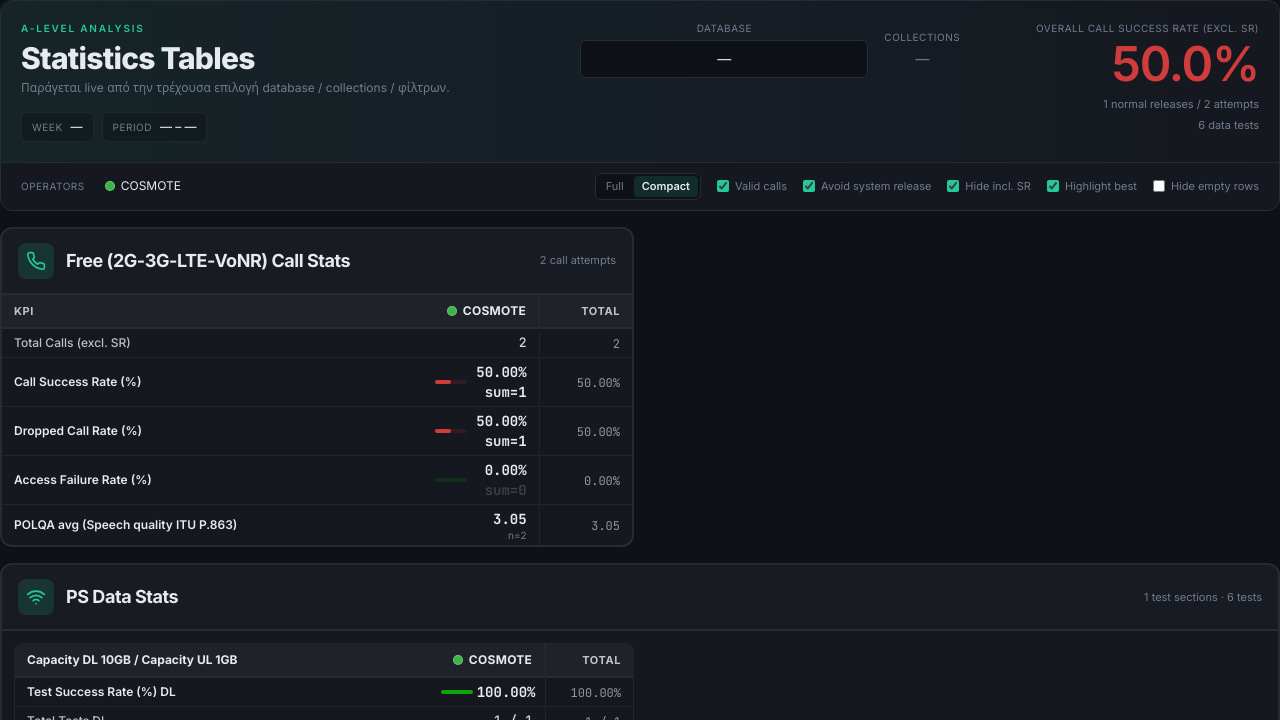
Test case: SummaryTab › compact mode › shows the Capacity (grx)/(akamai) link breakdown only in Full mode, next to the main Capacity DL/UL (2026-08-31: 'θέλω να μου το σπάσεις Link grx και akamai')
Expected: the text "Capacity DL 10GB / Capacity UL 1GB" is shown, [27,652,238,667]
Expected: the text "Capacity DL 10GB (grx)" is not shown
Click the button "Full": (615,186) [598,176,632,196]
(page scrolled)
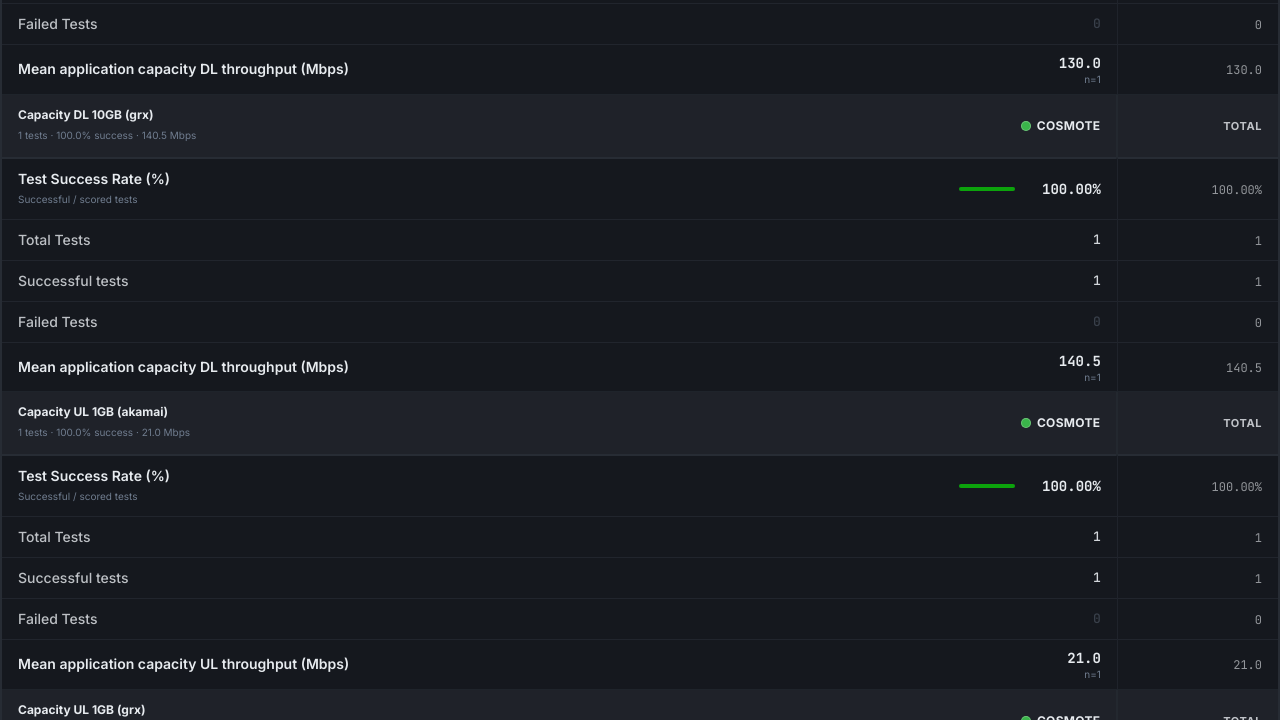
Now the text "Capacity DL 10GB (grx)" is shown, box [18,106,154,122]
Now the text "Capacity UL 1GB (grx)" is shown, box [18,702,146,716]
Now the text "Capacity UL 1GB (akamai)" is shown, box [18,404,168,419]
